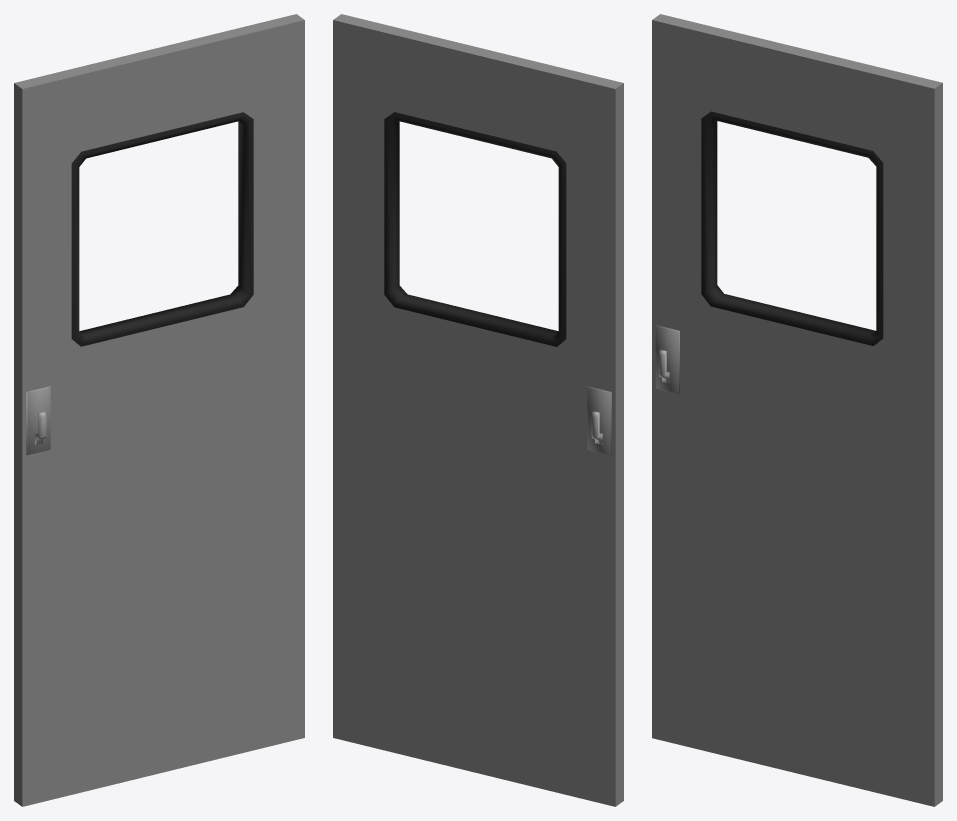
Rendered from SW_VEH_Train_Door_Front.fbx.
3 renders of one model, left to right at view 1: azimuth 30°, elevation 25°; view 2: azimuth 150°, elevation 25°; view 3: azimuth 330°, elevation 25°, orthographic.
Visible parts, largest first — view 1: SW_VEH_Train_Door_Front; view 2: SW_VEH_Train_Door_Front; view 3: SW_VEH_Train_Door_Front.
Part boxes in pixels (x1=…): SW_VEH_Train_Door_Front: x1=14, y1=14, x2=304, y2=806; SW_VEH_Train_Door_Front: x1=333, y1=14, x2=623, y2=806; SW_VEH_Train_Door_Front: x1=652, y1=14, x2=942, y2=806.
Bounding box in the file's own units: 0.8026 × 1.95 × 0.0963.
